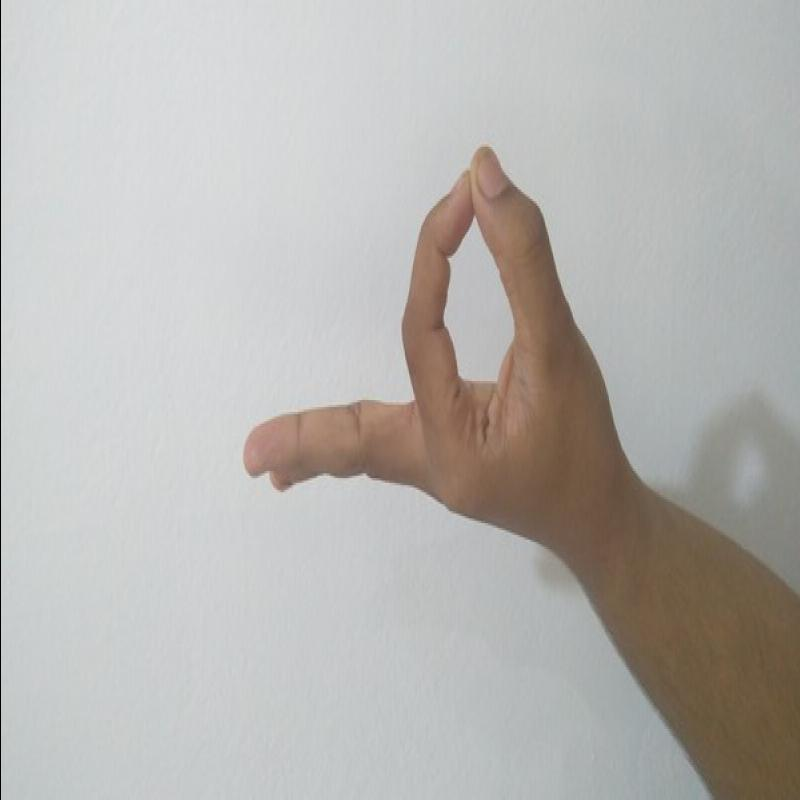Mudraakhyam: (228, 132, 647, 550)
